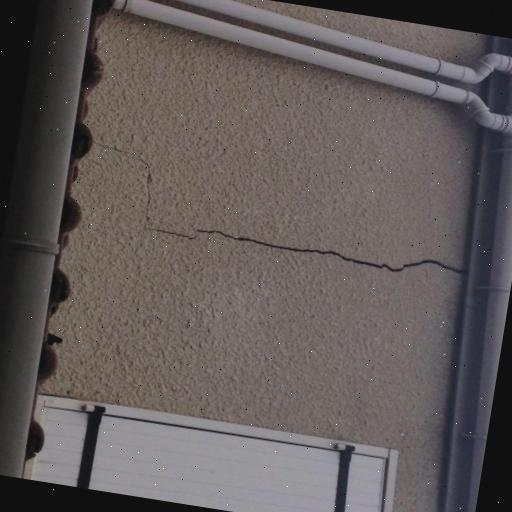spalling: (150, 221, 457, 281)
